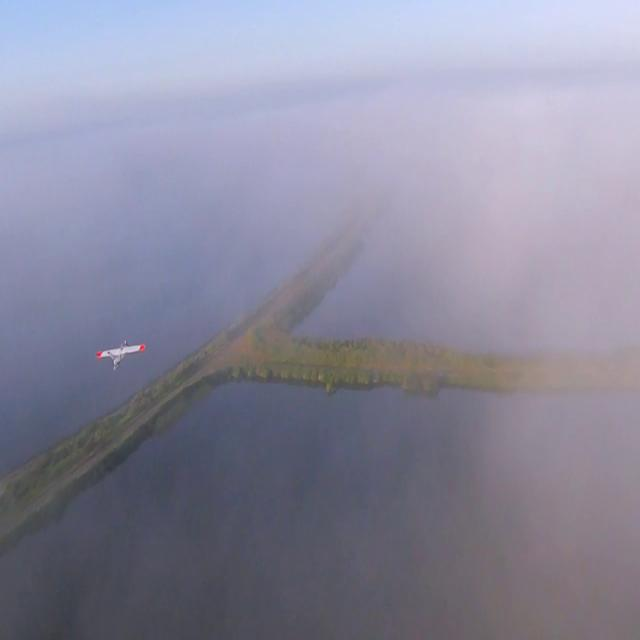iha: (32, 339, 81, 373)
